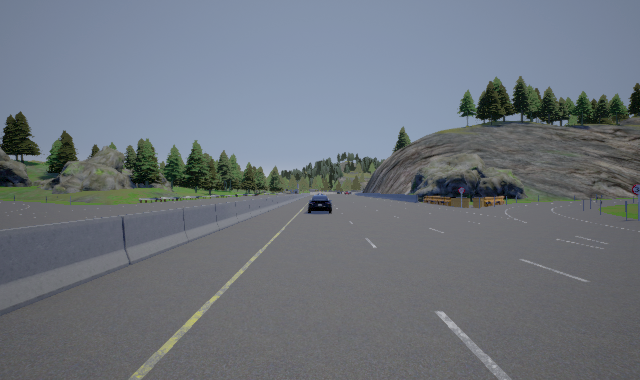traffic_sign: (632, 184, 640, 195), (458, 187, 465, 193)
vehicle: (308, 193, 332, 214)
